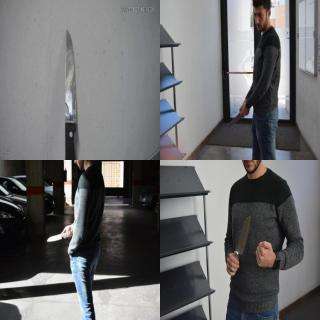knife: (62, 26, 80, 160), (231, 214, 252, 264), (45, 230, 71, 242), (227, 110, 243, 128)
